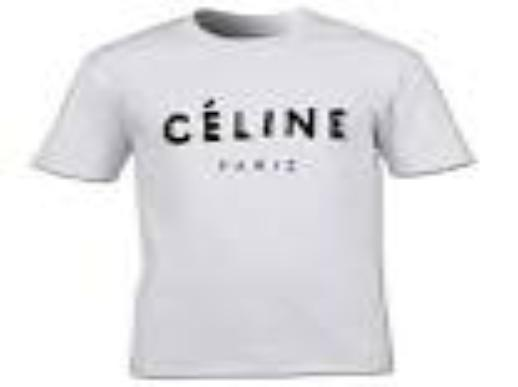CELINE: (149, 93, 363, 152)
